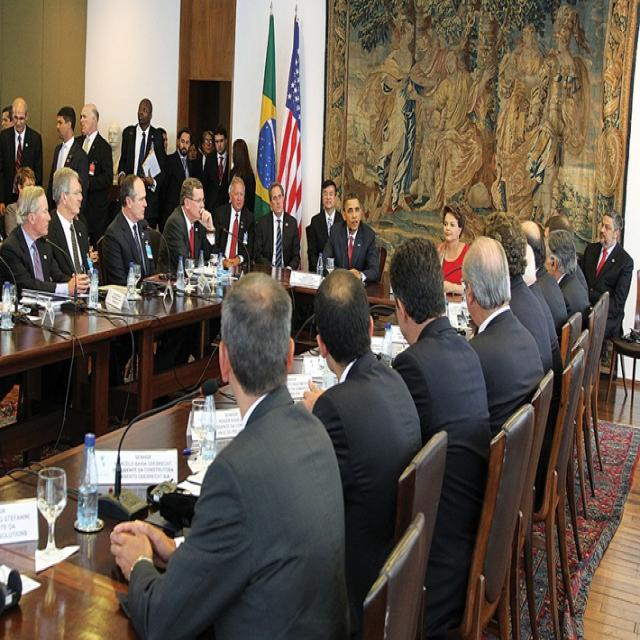body: (107, 266, 348, 639), (298, 264, 423, 640), (368, 3, 592, 209), (385, 234, 493, 637), (460, 234, 545, 438), (472, 208, 554, 373), (519, 239, 565, 509), (0, 184, 92, 304), (580, 207, 636, 343), (43, 164, 95, 300), (100, 172, 158, 290), (116, 96, 164, 232), (520, 218, 569, 349), (436, 200, 480, 344), (156, 176, 216, 280), (73, 102, 114, 248), (320, 190, 381, 286), (543, 228, 592, 336), (0, 98, 44, 218), (45, 104, 90, 221), (252, 181, 303, 270), (213, 174, 256, 270), (162, 126, 198, 235), (201, 125, 230, 258), (306, 177, 344, 275), (218, 136, 257, 215), (4, 165, 37, 239), (192, 127, 217, 185), (539, 212, 567, 231), (0, 102, 14, 130), (158, 124, 168, 153), (187, 138, 198, 162)
